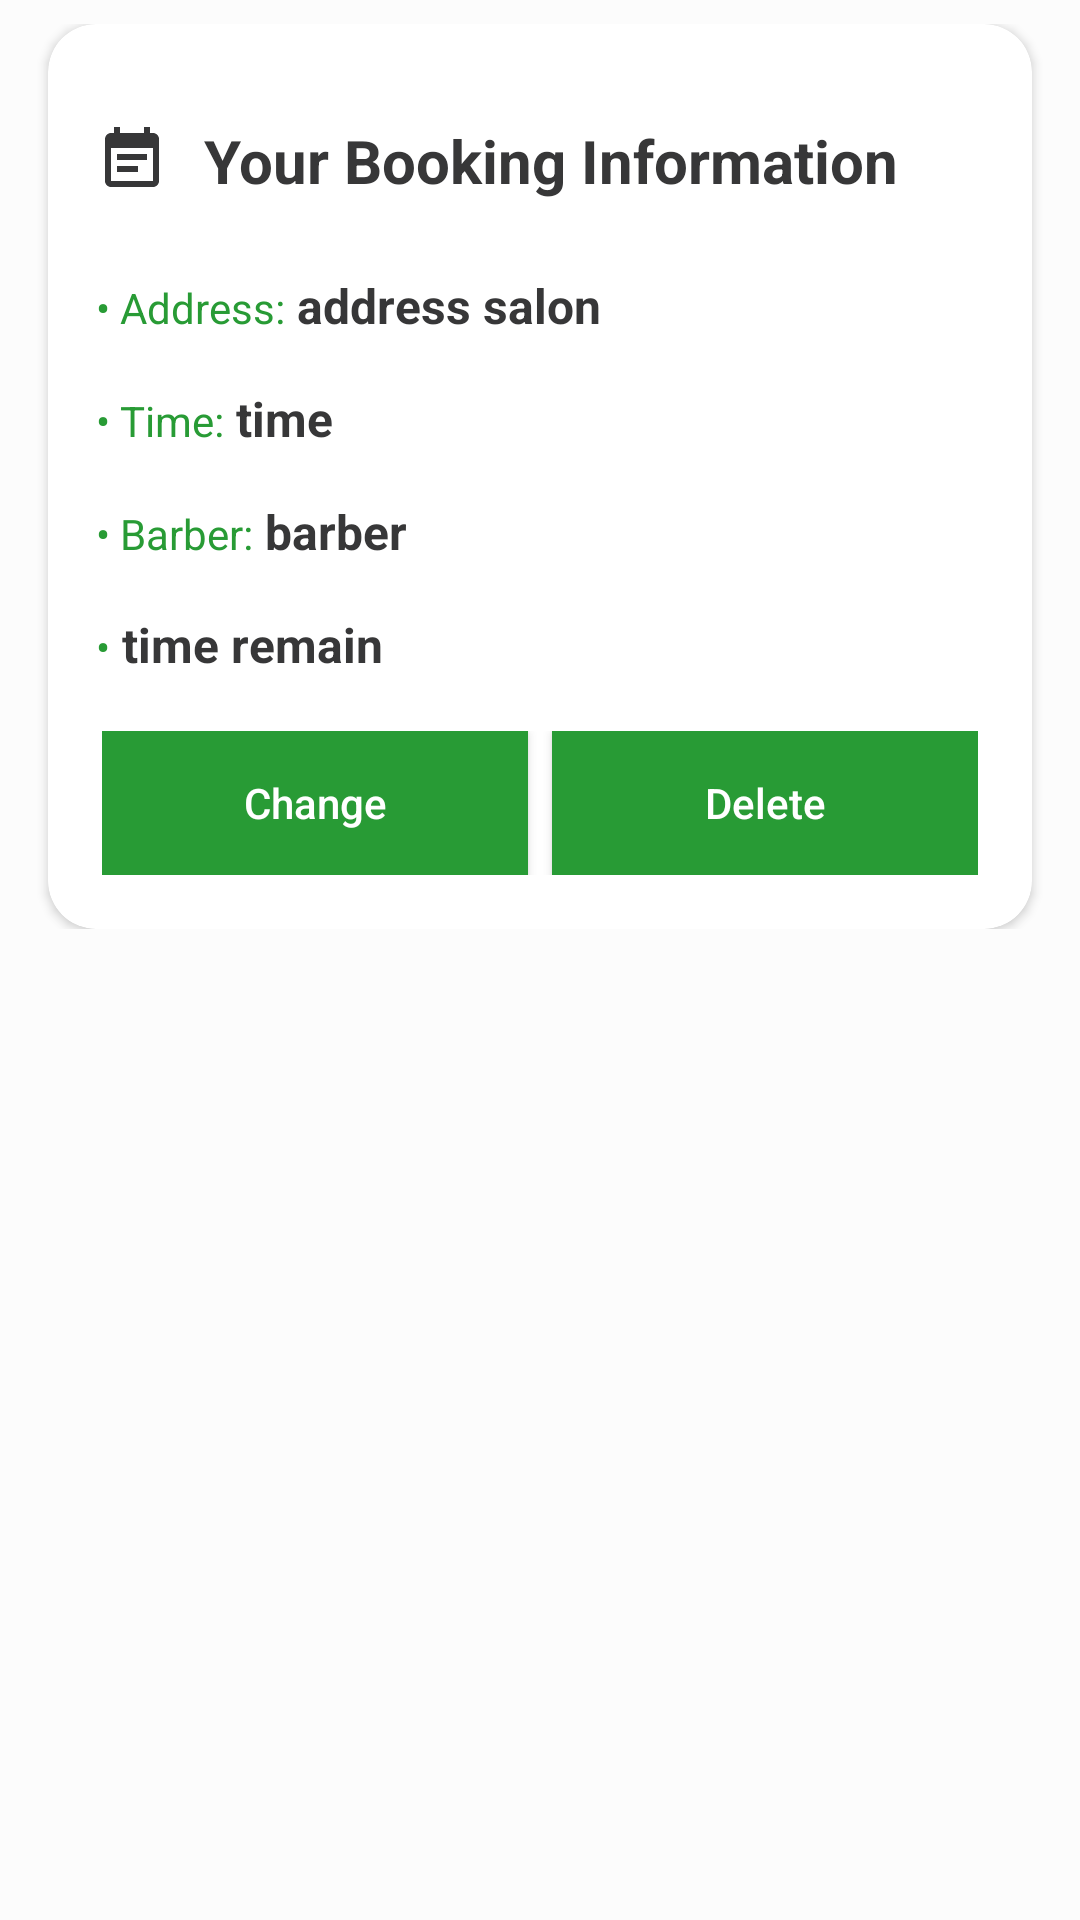

Locate icon controls on the screen. Image size 1080x1920, boxes as (x1=x1, y1=y1, x2=x2, y2=y2).
event note: (x1=105, y1=127, x2=159, y2=187)
